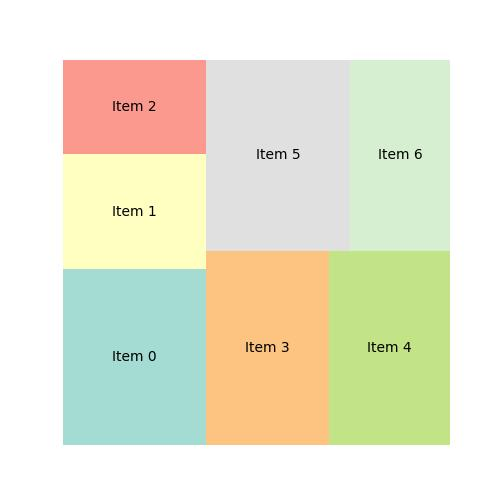rectangle: (206, 61, 349, 250), (64, 269, 206, 446), (206, 249, 329, 445), (331, 250, 450, 445), (350, 59, 451, 251), (64, 154, 206, 271), (64, 59, 209, 154)
